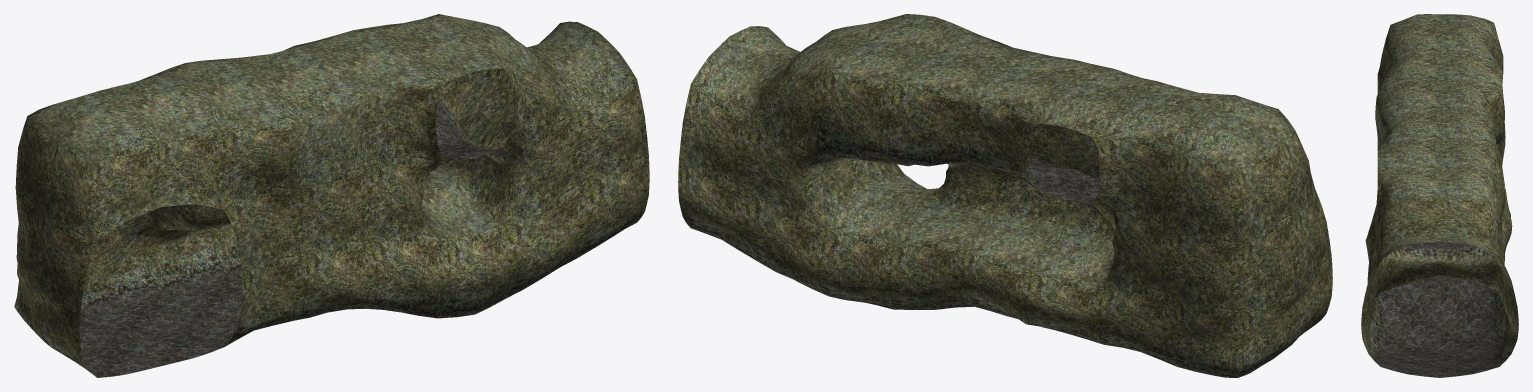
File: thm_all_cave_flatland_s03_damprock_r6_r6.fbx
3 renders of one model, left to right at view 1: azimuth 30°, elevation 25°; view 2: azimuth 150°, elevation 25°; view 3: azimuth 270°, elevation 25°, orthographic. The views are drawn at different scales.
Visible parts, largest first — view 1: mesh_node; view 2: mesh_node; view 3: mesh_node.
Boxes of the visible parts, box(x1,y1,x2,y2) form: mesh_node: box(14, 14, 649, 377); mesh_node: box(678, 14, 1332, 377); mesh_node: box(1361, 14, 1518, 377).
Bounding box in the file's own units: 65.18 × 29.36 × 20.28.
